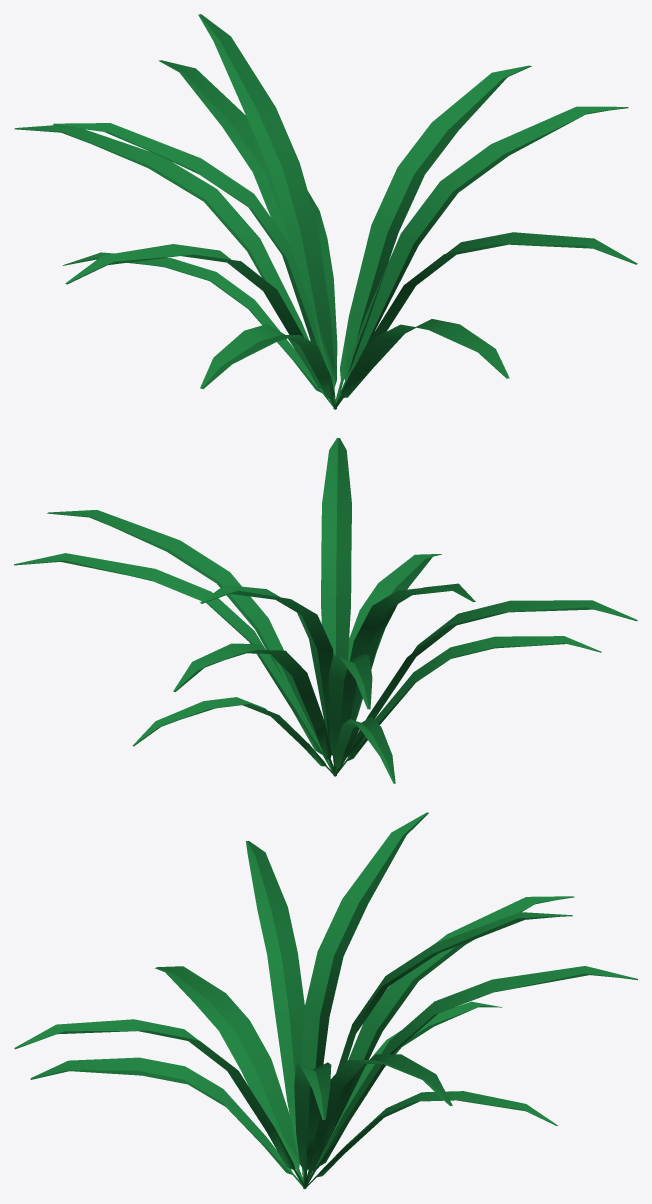
The model's file is jungle_leaves_2.glb.
3 views of the same model, one above another, from view 1: azimuth 30°, elevation 25°; view 2: azimuth 150°, elevation 25°; view 3: azimuth 270°, elevation 25° (orthographic). The views are drawn at different scales.
Parts seen in each view (by area): view 1: Plane.052_leaves2.002_0; view 2: Plane.052_leaves2.002_0; view 3: Plane.052_leaves2.002_0.
Part boxes in pixels (x1,y1,x2,y2): Plane.052_leaves2.002_0: [14, 14, 637, 409]; Plane.052_leaves2.002_0: [14, 438, 637, 783]; Plane.052_leaves2.002_0: [14, 812, 637, 1189].
Bounding box in the file's own units: 1.22 × 0.5642 × 1.15.
